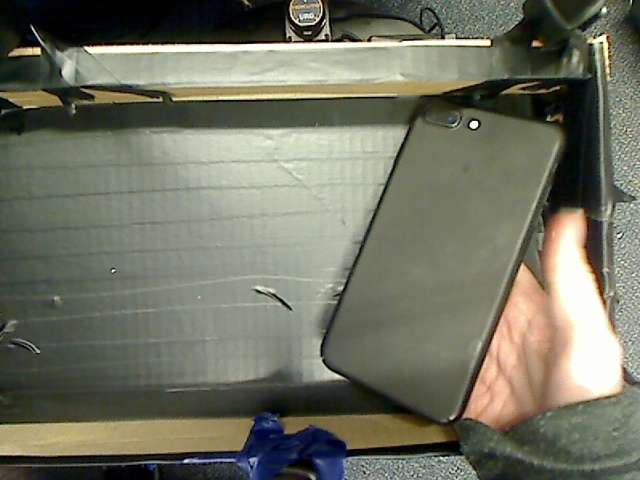phone: (294, 95, 587, 429)
